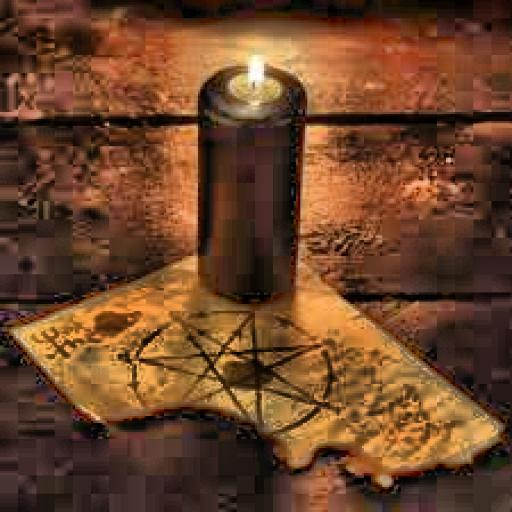fire: (234, 50, 276, 92)
